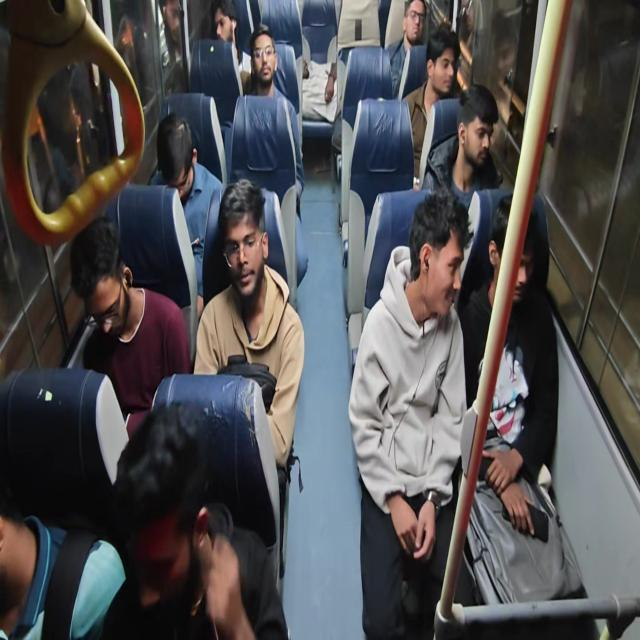person: (458, 193, 594, 620), (348, 186, 469, 638), (103, 401, 288, 638), (193, 178, 305, 477), (69, 215, 192, 441), (0, 503, 127, 639), (150, 111, 224, 317), (240, 25, 305, 204), (421, 82, 502, 207), (402, 25, 461, 188), (295, 0, 338, 122), (386, 0, 427, 99), (210, 0, 250, 94), (241, 25, 289, 101), (158, 0, 188, 95)
